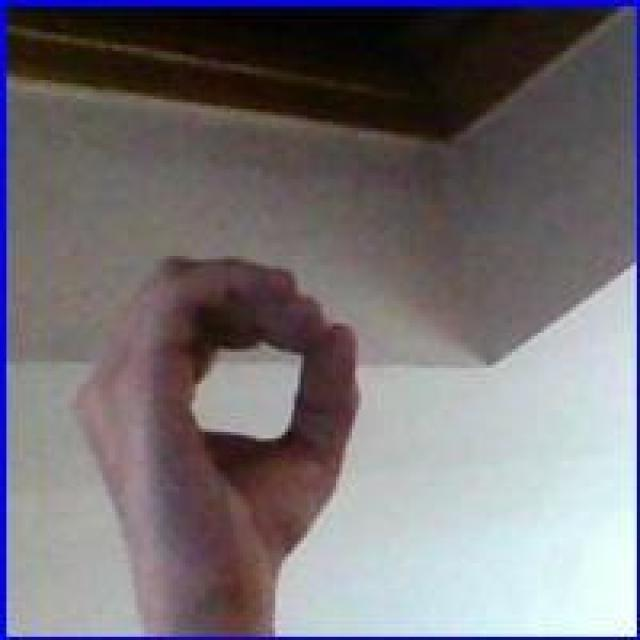O: (61, 253, 368, 582)
